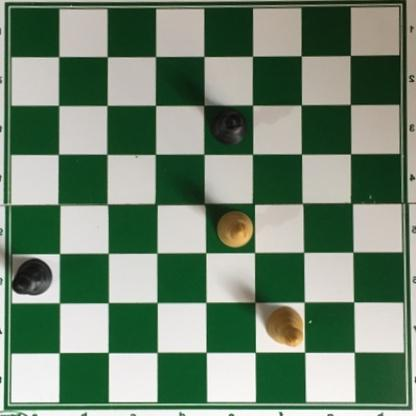black-bishop: (10, 258, 55, 296), (210, 107, 247, 145)
white-bishop: (216, 208, 257, 251), (263, 305, 304, 347)
